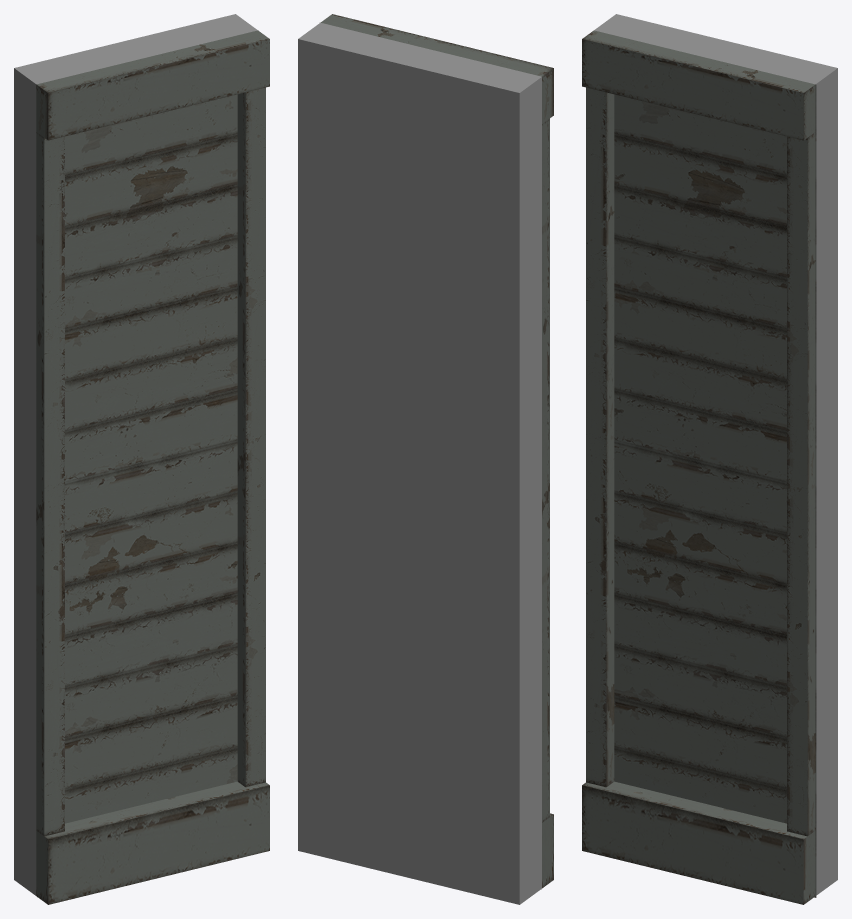
The model's file is SM_EWall100.FBX.
The picture shows the model from 3 angles, left to right: view 1: azimuth 30°, elevation 25°; view 2: azimuth 150°, elevation 25°; view 3: azimuth 330°, elevation 25°; orthographic projection.
Parts seen in each view (by area): view 1: SM_EWall100; view 2: SM_EWall100; view 3: SM_EWall100.
Boxes of the visible parts, x1,y1,x2,y2 form: SM_EWall100: (14,14,269,904); SM_EWall100: (298,14,553,904); SM_EWall100: (582,14,837,904).
Bounding box in the file's own units: 100 × 351 × 26.73.
